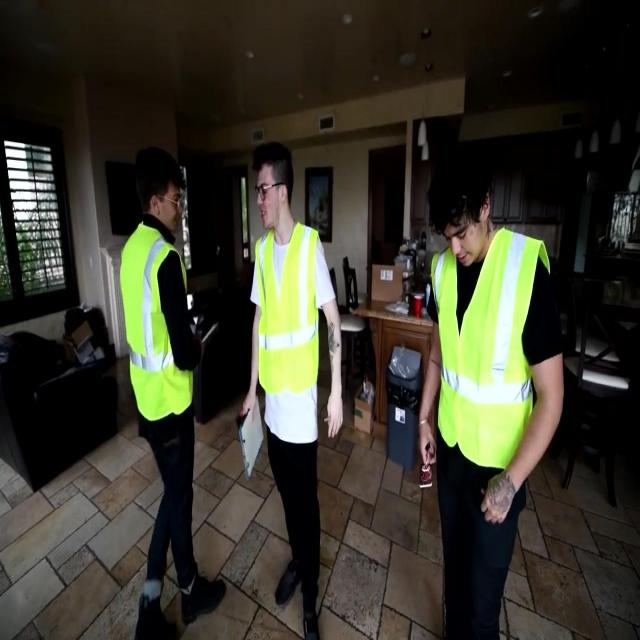Reflective-Jacket: (429, 226, 555, 481), (112, 220, 204, 430), (248, 220, 326, 436)
